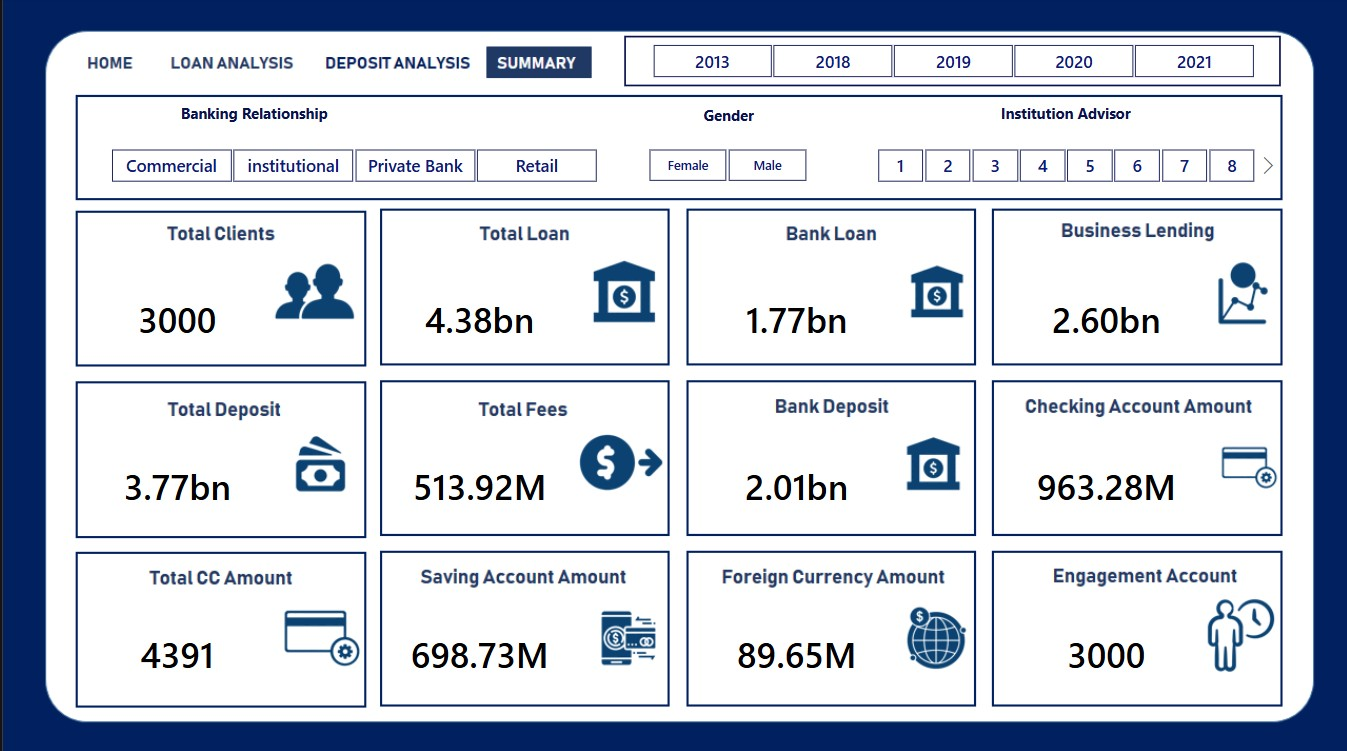

The dashboard page shown, as its layout file describes it:
{"tool":"powerbi","page":{"name":"Summary","canvas":[1280,720],"ordinal":3},"visuals":[{"type":"actionButton","box":[67.2,46.7,68.6,30.2],"z":0},{"type":"actionButton","box":[155.1,46.7,127.6,30.2],"z":1000},{"type":"actionButton","box":[301.9,46.7,148.2,30.2],"z":2000},{"type":"slicer","fields":{"Values":["banking_case customer.join of year"]},"box":[590.1,37,623,48],"z":3000},{"type":"slicer","fields":{"Values":["banking_case customer.BRId"]},"box":[76.8,137.2,510.5,43.9],"z":4000},{"type":"slicer","fields":{"Values":["banking_case customer.GenderId"]},"box":[587.3,137.2,199,43.9],"z":5000},{"type":"slicer","fields":{"Values":["banking_case customer.IAId"]},"box":[804.1,137.2,407.5,43.9],"z":6000},{"type":"textbox","box":[155.1,96.1,166,31.6],"z":7000},{"type":"textbox","box":[639.5,97.4,98.8,30.2],"z":8000},{"type":"textbox","box":[937.2,96.1,142.7,30.2],"z":9000},{"type":"card","fields":{"Values":["CountNonNull(banking_case customer.Name)"]},"box":[76.8,271.7,177,70],"z":10000},{"type":"card","fields":{"Values":["banking_case customer.Total loan"]},"box":[365,271.7,174.3,70],"z":11000},{"type":"card","fields":{"Values":["banking_case customer.Total deposite"]},"box":[76.8,429.5,177,71.4],"z":12000},{"type":"card","fields":{"Values":["Sum(banking_case customer.Estimated Income)"]},"box":[365,429.5,174.3,71.4],"z":13000},{"type":"card","fields":{"Values":["Sum(banking_case customer.Amount of Credit Cards)"]},"box":[76.8,584.6,177,78.2],"z":14000},{"type":"card","fields":{"Values":["Sum(banking_case customer.Saving Accounts)"]},"box":[365,584.6,174.3,78.2],"z":15000},{"type":"card","fields":{"Values":["Sum(banking_case customer.Bank Loans)"]},"box":[661.4,271.7,185.2,70],"z":16000},{"type":"card","fields":{"Values":["Sum(banking_case customer.Bank Deposits)"]},"box":[661.4,429.5,185.2,71.4],"z":17000},{"type":"card","fields":{"Values":["Sum(banking_case customer.Foreign Currency Account)"]},"box":[661.4,584.6,185.2,78.2],"z":18000},{"type":"card","fields":{"Values":["Sum(banking_case customer.Business Lending)"]},"box":[952.3,271.7,189.4,70],"z":19000},{"type":"card","fields":{"Values":["Sum(banking_case customer.Checking Accounts)"]},"box":[952.3,429.5,189.4,71.4],"z":20000},{"type":"card","fields":{"Values":["Sum(banking_case customer.Engagement acc)"]},"box":[952.3,584.6,189.4,78.2],"z":21000}]}

Visuals, with their boxes in screenshot pixels (x1, y1, x2, y2), scaled from the page's 1280x720 canvas onto the 1347x751 screenshot:
actionButton: <bbox>71, 49, 143, 80</bbox>
actionButton: <bbox>163, 49, 297, 80</bbox>
actionButton: <bbox>318, 49, 474, 80</bbox>
slicer - banking_case customer.join of year: <bbox>621, 39, 1277, 89</bbox>
slicer - banking_case customer.BRId: <bbox>81, 143, 618, 189</bbox>
slicer - banking_case customer.GenderId: <bbox>618, 143, 827, 189</bbox>
slicer - banking_case customer.IAId: <bbox>846, 143, 1275, 189</bbox>
textbox: <bbox>163, 100, 338, 133</bbox>
textbox: <bbox>673, 102, 777, 133</bbox>
textbox: <bbox>986, 100, 1136, 132</bbox>
card - CountNonNull(banking_case customer.Name): <bbox>81, 283, 267, 356</bbox>
card - banking_case customer.Total loan: <bbox>384, 283, 568, 356</bbox>
card - banking_case customer.Total deposite: <bbox>81, 448, 267, 522</bbox>
card - Sum(banking_case customer.Estimated Income): <bbox>384, 448, 568, 522</bbox>
card - Sum(banking_case customer.Amount of Credit Cards): <bbox>81, 610, 267, 691</bbox>
card - Sum(banking_case customer.Saving Accounts): <bbox>384, 610, 568, 691</bbox>
card - Sum(banking_case customer.Bank Loans): <bbox>696, 283, 891, 356</bbox>
card - Sum(banking_case customer.Bank Deposits): <bbox>696, 448, 891, 522</bbox>
card - Sum(banking_case customer.Foreign Currency Account): <bbox>696, 610, 891, 691</bbox>
card - Sum(banking_case customer.Business Lending): <bbox>1002, 283, 1201, 356</bbox>
card - Sum(banking_case customer.Checking Accounts): <bbox>1002, 448, 1201, 522</bbox>
card - Sum(banking_case customer.Engagement acc): <bbox>1002, 610, 1201, 691</bbox>
